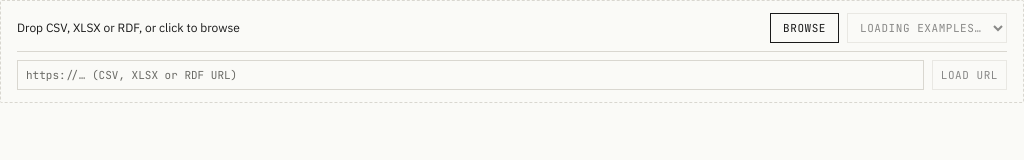
Test: FileDropzone — loading from a web URL › shows the fetch error and keeps the typed URL so it can be corrected
This screenshot has width=1024, height=160.
Type "https://x" into the field named "Data file URL".
click(470, 75); type("https://x")  # box top-left (17, 60), bottom-right (924, 90)
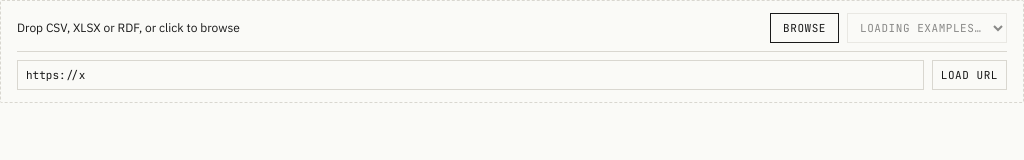
Click the button "Load URL".
click(969, 75)  # box top-left (932, 60), bottom-right (1007, 90)
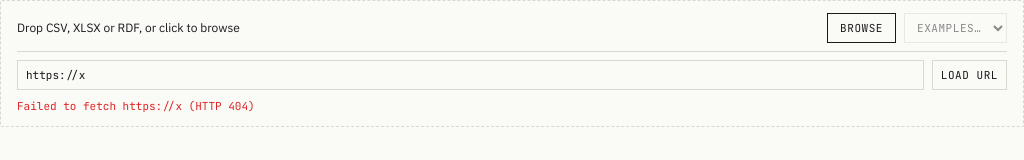
Now the text "Failed to fetch https://x (HTTP 404)" is shown, box top-left (17, 99), bottom-right (255, 113)
